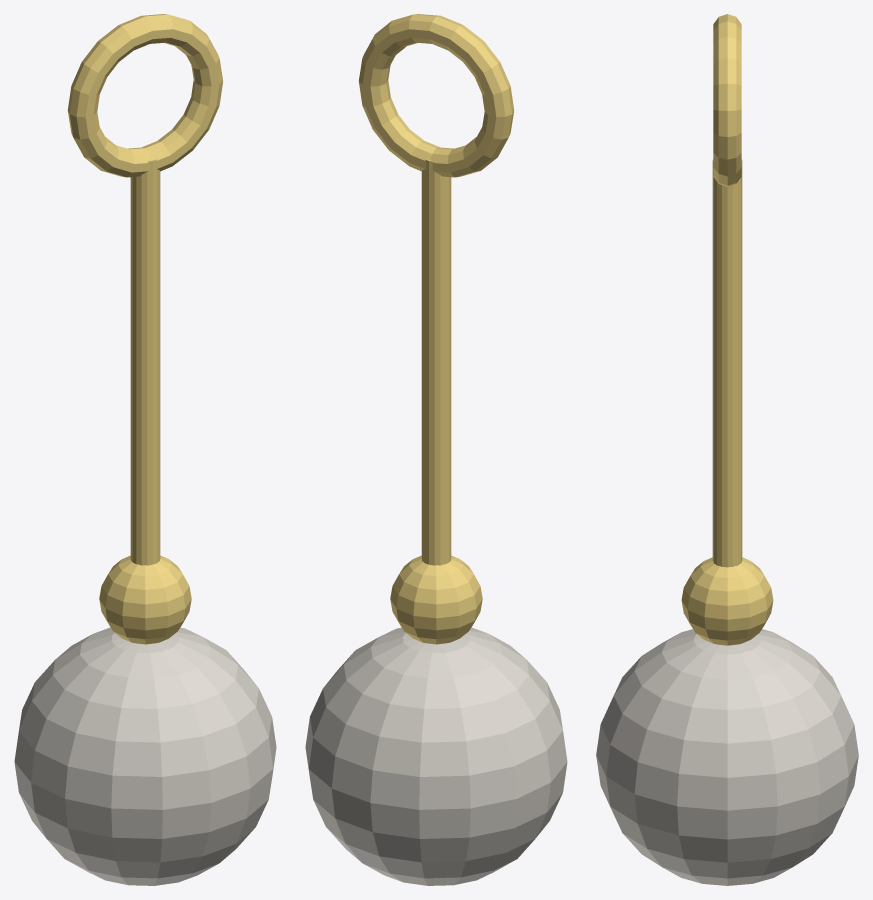
The model's file is pearl-drop.glb.
The picture shows the model from 3 angles, left to right: view 1: azimuth 30°, elevation 25°; view 2: azimuth 150°, elevation 25°; view 3: azimuth 270°, elevation 25°; orthographic projection.
Visible parts, largest first — view 1: Pearl, Gold; view 2: Pearl, Gold; view 3: Pearl, Gold.
Boxes of the visible parts, box(x1,y1,x2,y2) form: Pearl: box(14, 627, 276, 885); Gold: box(67, 14, 223, 644); Pearl: box(305, 627, 567, 885); Gold: box(358, 14, 514, 644); Pearl: box(596, 629, 858, 885); Gold: box(681, 14, 773, 645).
Bounding box in the file's own units: 8 × 28.65 × 8.
